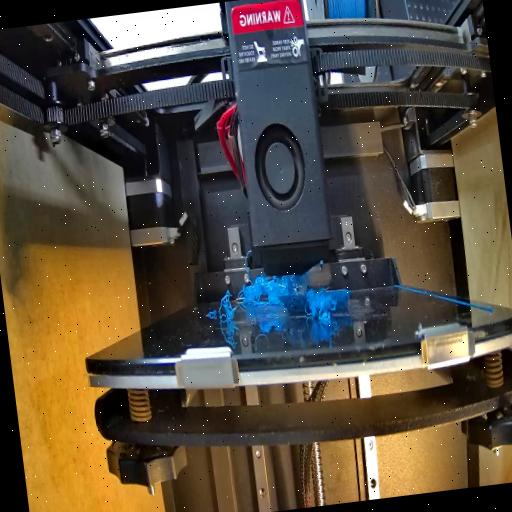spaghetti: (240, 272, 312, 310), (300, 282, 346, 330), (212, 296, 239, 328)
